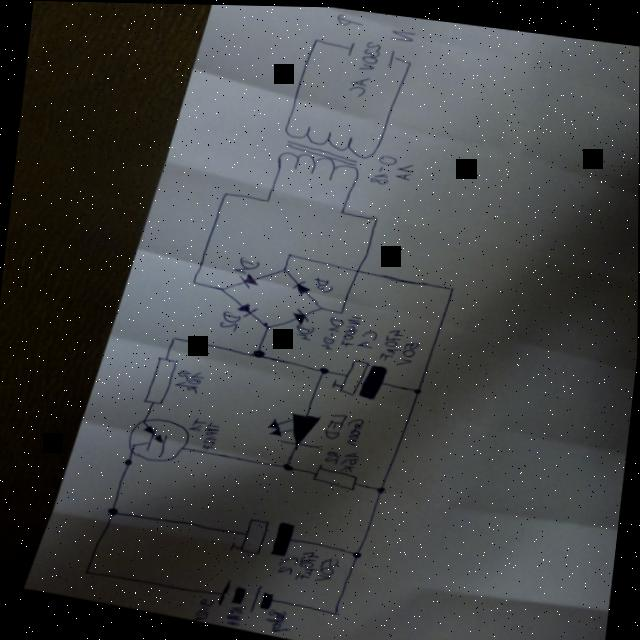capacitor: (226, 513, 295, 559), (329, 353, 389, 400)
crossover: (351, 265, 360, 272)
diode: (264, 405, 324, 446), (233, 298, 258, 316), (289, 276, 311, 296), (234, 268, 257, 287), (288, 304, 309, 324)
junction: (246, 346, 266, 359), (104, 503, 120, 516), (279, 459, 294, 471), (315, 363, 329, 374), (349, 548, 362, 557), (374, 483, 385, 492), (219, 188, 230, 197), (309, 34, 320, 43), (261, 319, 271, 328), (168, 333, 179, 341), (410, 384, 421, 392), (369, 211, 378, 220), (188, 276, 197, 284), (278, 264, 287, 272), (81, 567, 90, 575), (403, 56, 412, 64), (336, 206, 345, 213), (260, 195, 269, 202), (445, 282, 454, 289), (217, 283, 226, 290), (335, 306, 343, 313), (331, 607, 338, 614), (285, 249, 292, 256), (315, 302, 322, 309)
resistor: (142, 351, 175, 407), (310, 461, 357, 489)
source: (215, 575, 276, 614)
terminal: (385, 46, 397, 65), (343, 37, 355, 56)
text: (344, 36, 380, 100), (366, 150, 398, 183), (376, 324, 404, 361), (293, 546, 320, 580), (338, 311, 361, 347), (392, 337, 420, 366), (313, 553, 340, 582), (322, 409, 348, 439), (319, 316, 342, 349), (341, 413, 362, 449), (196, 417, 219, 449), (263, 607, 290, 632), (332, 10, 365, 30), (216, 307, 242, 331), (191, 595, 213, 621), (222, 602, 245, 626), (353, 326, 377, 349), (184, 367, 205, 393), (386, 24, 414, 43), (274, 552, 298, 574), (339, 443, 357, 470), (292, 320, 315, 340), (393, 159, 414, 179), (234, 254, 258, 270), (172, 366, 190, 387), (311, 274, 332, 292), (189, 416, 205, 435), (322, 447, 340, 463)
transformer: (271, 118, 384, 185)
transistor: (120, 412, 191, 466)
